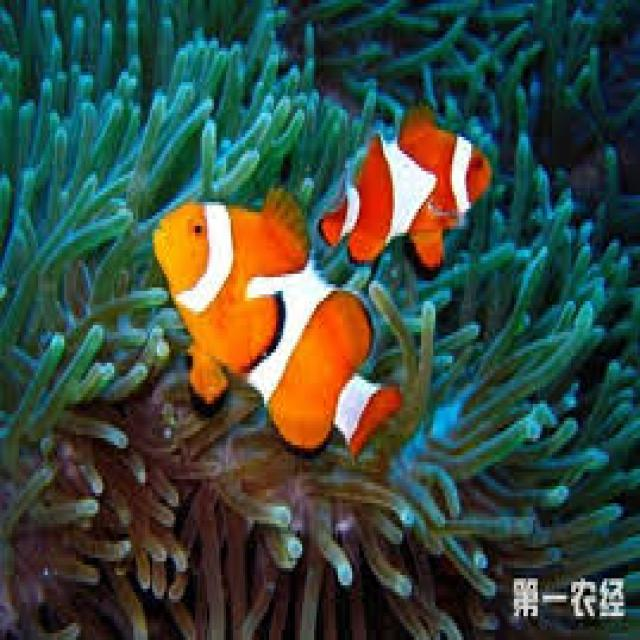ClownFish: (152, 186, 402, 464), (318, 100, 495, 276)
